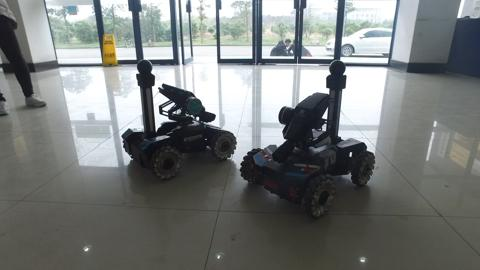chariot: (241, 58, 384, 220), (108, 60, 238, 181)
